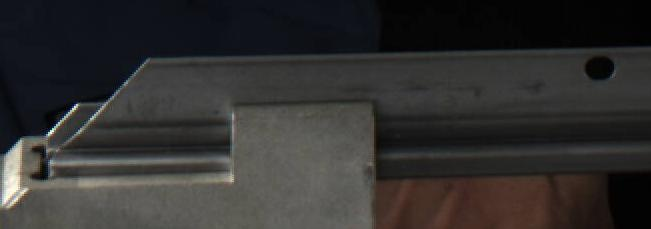cut: (37, 50, 202, 180)
holes: (583, 55, 617, 81)
